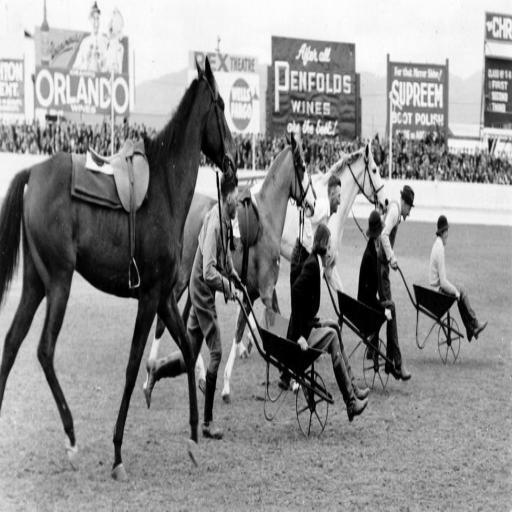horse: (0, 52, 239, 486), (142, 128, 316, 406), (236, 137, 390, 362)
